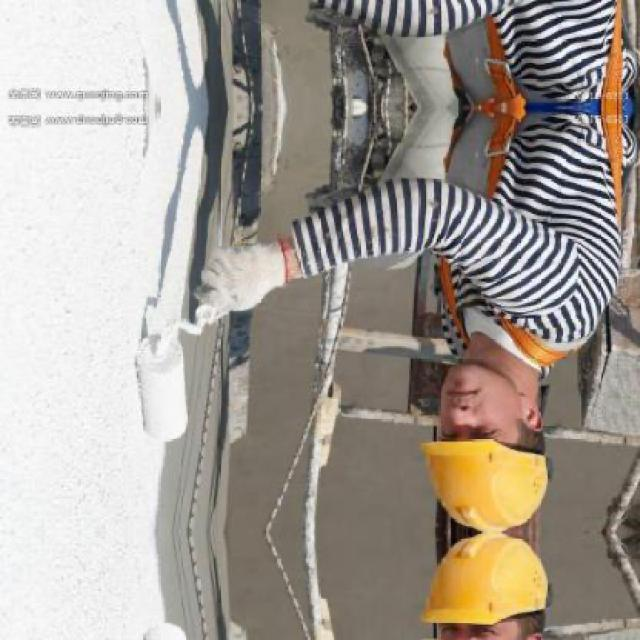con casco: (395, 328, 576, 538)
